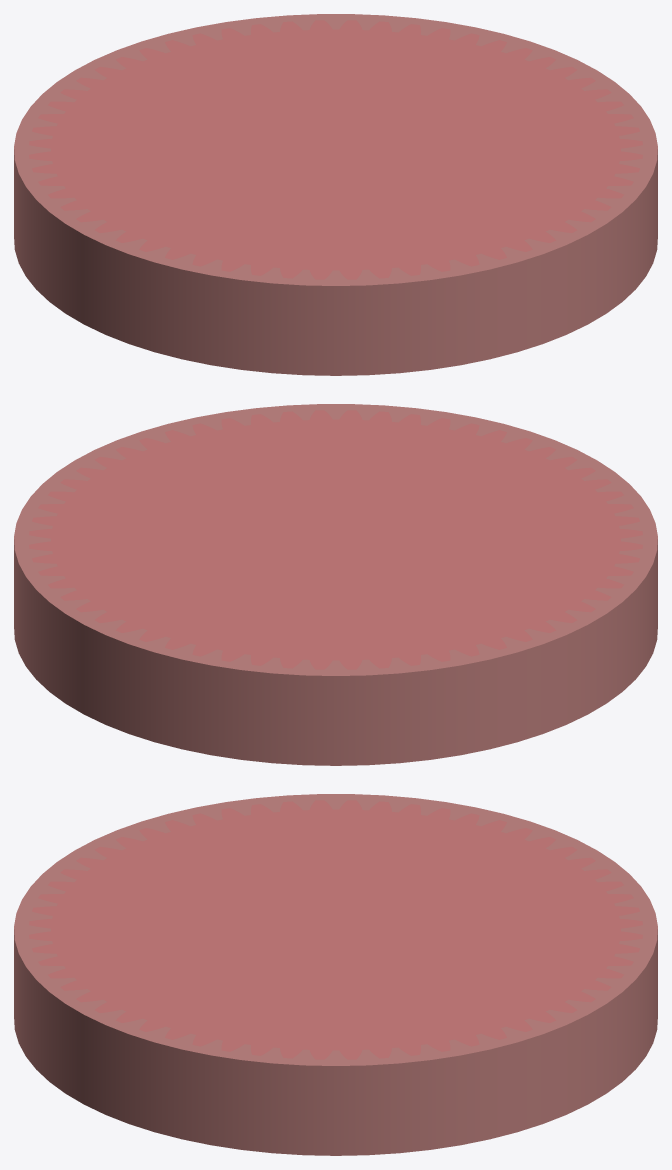
Rendered from step_02.glb.
3 renders of one model, top to bottom at view 1: azimuth 30°, elevation 25°; view 2: azimuth 150°, elevation 25°; view 3: azimuth 270°, elevation 25°, orthographic.
Parts seen in each view (by area): view 1: removed__ring gear, part__ring gear; view 2: removed__ring gear, part__ring gear; view 3: removed__ring gear, part__ring gear.
Part boxes in pixels (left/top/right/bottom): removed__ring gear: left=29, top=20, right=642, bottom=279; part__ring gear: left=14, top=14, right=657, bottom=375; removed__ring gear: left=29, top=410, right=642, bottom=669; part__ring gear: left=14, top=404, right=657, bottom=765; removed__ring gear: left=29, top=800, right=642, bottom=1059; part__ring gear: left=14, top=794, right=657, bottom=1155.
Size of the model in its own units: 64.96 by 10 by 64.98.
